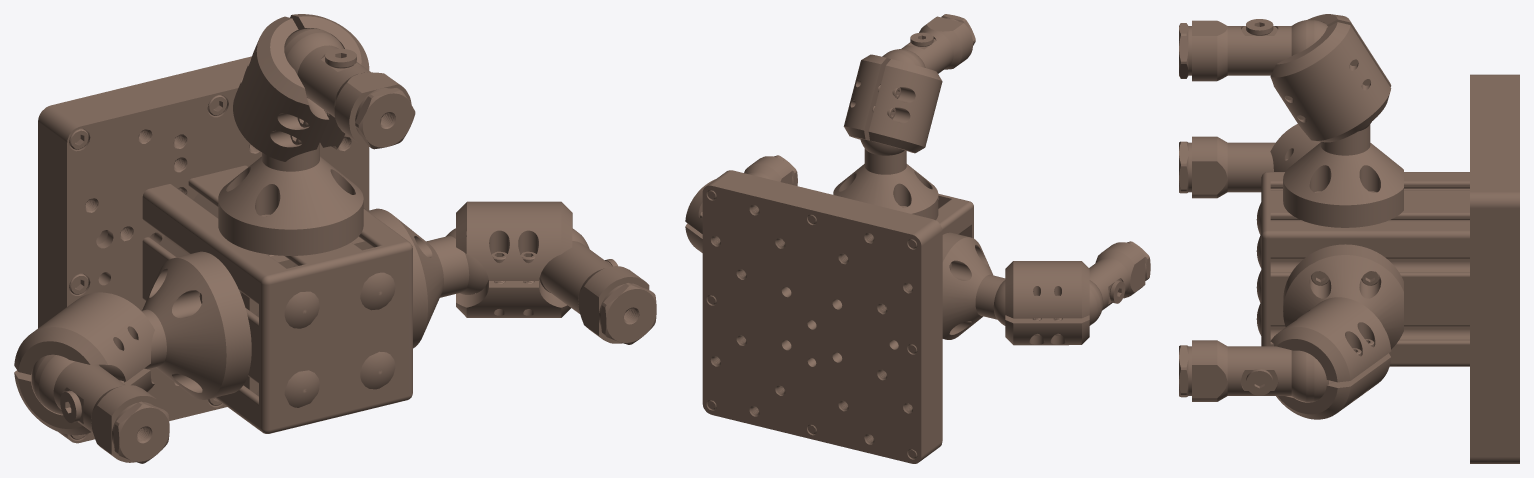
Rendered from tool_vackit_v1.glb.
3 renders of one model, left to right at view 1: azimuth 30°, elevation 25°; view 2: azimuth 150°, elevation 25°; view 3: azimuth 270°, elevation 25°, orthographic. The views are drawn at different scales.
Parts seen in each view (by area): view 1: Tool_VacuumKit_3136N512; view 2: Tool_VacuumKit_3136N512; view 3: Tool_VacuumKit_3136N512.
Part boxes in pixels (x1=…): Tool_VacuumKit_3136N512: x1=14, y1=14, x2=656, y2=463; Tool_VacuumKit_3136N512: x1=685, y1=14, x2=1150, y2=463; Tool_VacuumKit_3136N512: x1=1179, y1=14, x2=1519, y2=463.
Size of the model in its own units: 0.2795 by 0.2159 by 0.1737.
